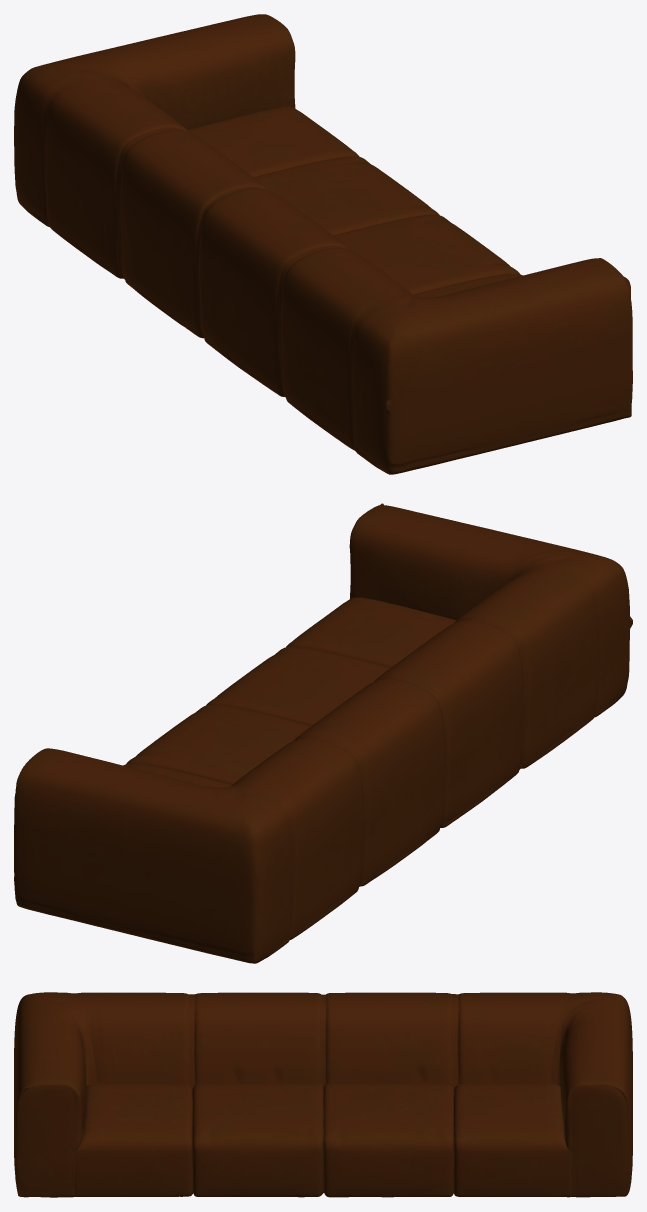
3 views of the same model, one above another, from view 1: azimuth 30°, elevation 25°; view 2: azimuth 150°, elevation 25°; view 3: azimuth 270°, elevation 25° (orthographic). The views are drawn at different scales.
Visible parts, largest first — view 1: tripo_node_b5c0cc2e-531a-4d0d-a81e-f7d7dd791a07; view 2: tripo_node_b5c0cc2e-531a-4d0d-a81e-f7d7dd791a07; view 3: tripo_node_b5c0cc2e-531a-4d0d-a81e-f7d7dd791a07.
Part boxes in pixels (<box>): tripo_node_b5c0cc2e-531a-4d0d-a81e-f7d7dd791a07: <box>14,14,632,474</box>; tripo_node_b5c0cc2e-531a-4d0d-a81e-f7d7dd791a07: <box>14,503,632,963</box>; tripo_node_b5c0cc2e-531a-4d0d-a81e-f7d7dd791a07: <box>14,992,632,1197</box>.
Bounding box in the file's own units: 0.3824 × 0.2138 × 1.
Materials: 1 (1 with a texture image).
